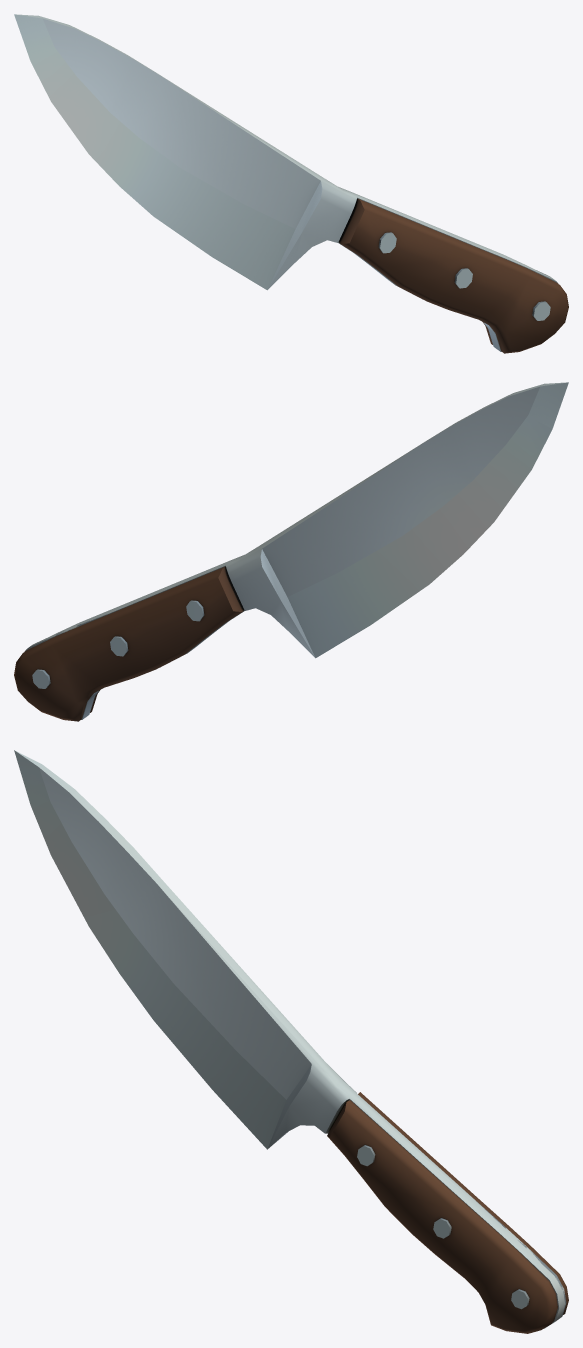
Rendered from lowpoly_knife_-_free_3d_model.glb.
3 views of the same model, one above another, from view 1: azimuth 30°, elevation 25°; view 2: azimuth 150°, elevation 25°; view 3: azimuth 330°, elevation 25° (orthographic).
Parts seen in each view (by area): view 1: Object_2; view 2: Object_2; view 3: Object_2.
Part boxes in pixels (x1=…): Object_2: x1=14, y1=14, x2=568, y2=353; Object_2: x1=14, y1=382, x2=568, y2=721; Object_2: x1=14, y1=750, x2=568, y2=1333.
Size of the model in its own units: 1.07 by 0.85 by 0.0778.
1 material, 1 textured.
